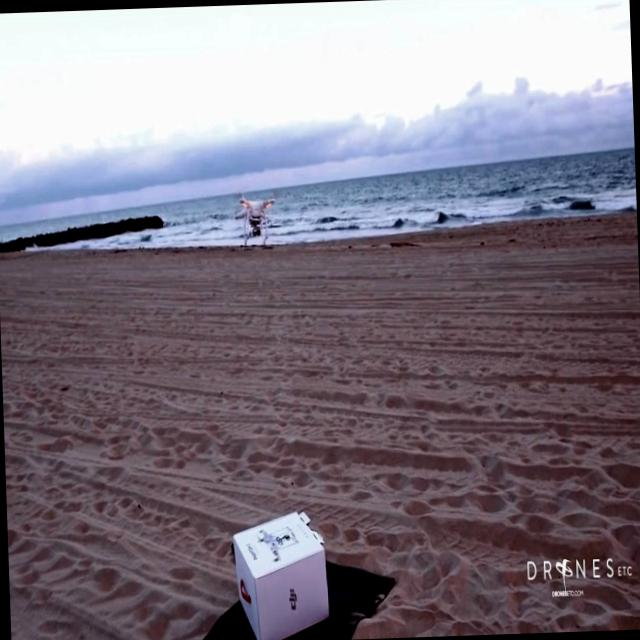drone: (237, 186, 274, 243)
